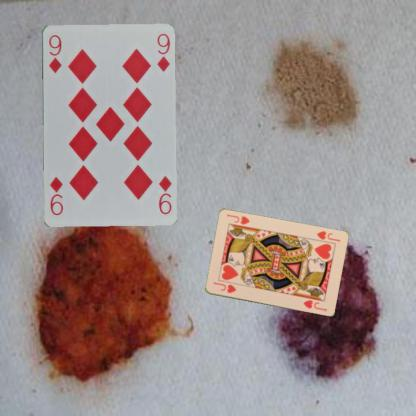9d: (46, 32, 63, 74), (156, 173, 173, 215)
Jh: (211, 279, 237, 295), (314, 228, 341, 243)
